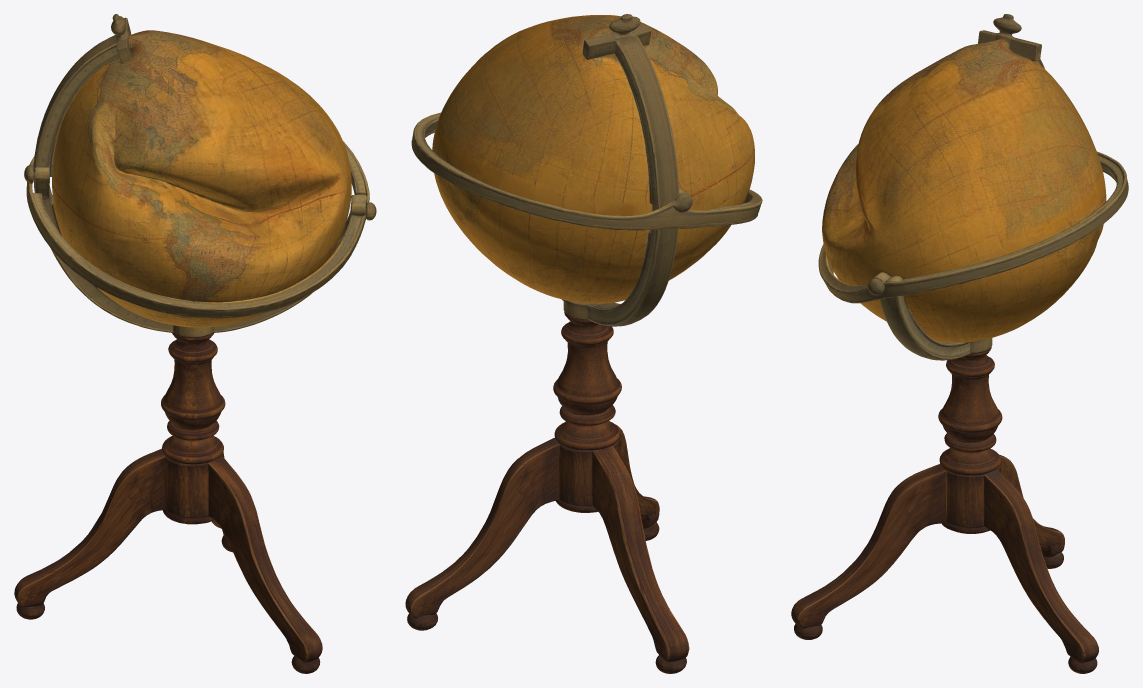
File: globe.glb
The picture shows the model from 3 angles, left to right: view 1: azimuth 30°, elevation 25°; view 2: azimuth 150°, elevation 25°; view 3: azimuth 270°, elevation 25°; orthographic projection. The views are drawn at different scales.
Parts seen in each view (by area): view 1: Mesh_0; view 2: Mesh_0; view 3: Mesh_0.
Boxes of the visible parts, x1,y1,x2,y2 form: Mesh_0: (14, 14, 376, 673); Mesh_0: (405, 14, 762, 673); Mesh_0: (791, 14, 1128, 673).
Bounding box in the file's own units: 0.3622 × 0.7 × 0.3673.
Materials: 1 (1 with a texture image).
